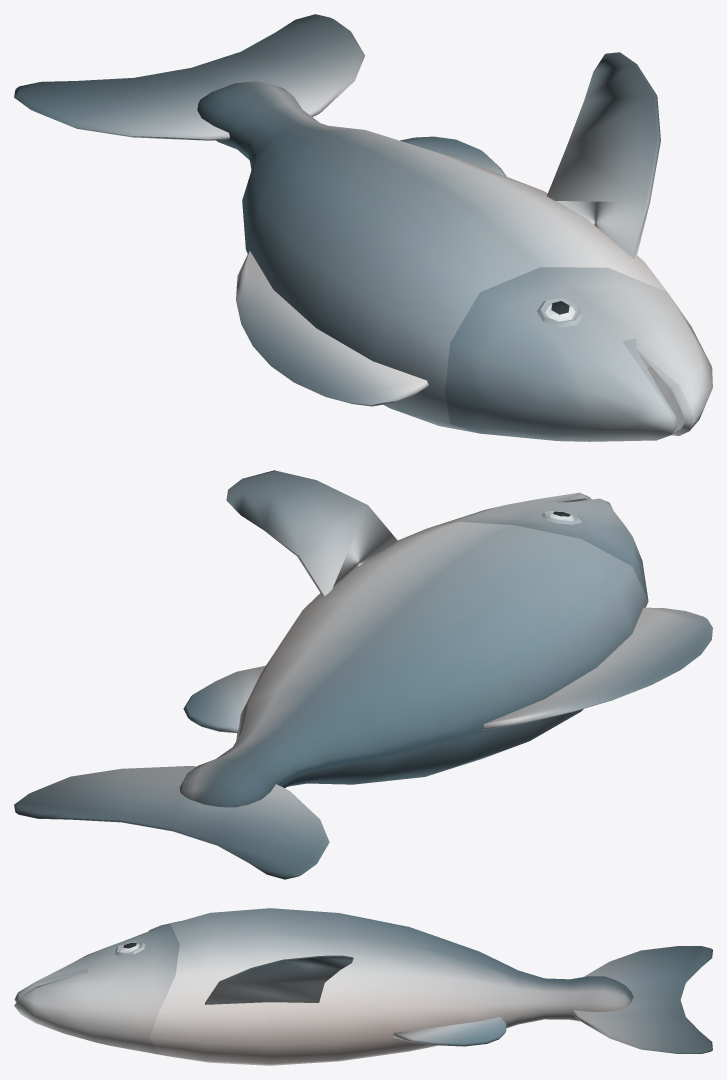
3 views of the same model, one above another, from view 1: azimuth 30°, elevation 25°; view 2: azimuth 150°, elevation 25°; view 3: azimuth 270°, elevation 25° (orthographic). The views are drawn at different scales.
Visible parts, largest first — view 1: 10-5; view 2: 10-5; view 3: 10-5.
Part boxes in pixels (x1=…): 10-5: x1=14, y1=14, x2=712, y2=441; 10-5: x1=14, y1=470, x2=712, y2=879; 10-5: x1=14, y1=908, x2=712, y2=1065.
Size of the model in its own units: 15.87 by 8.65 by 32.88.
